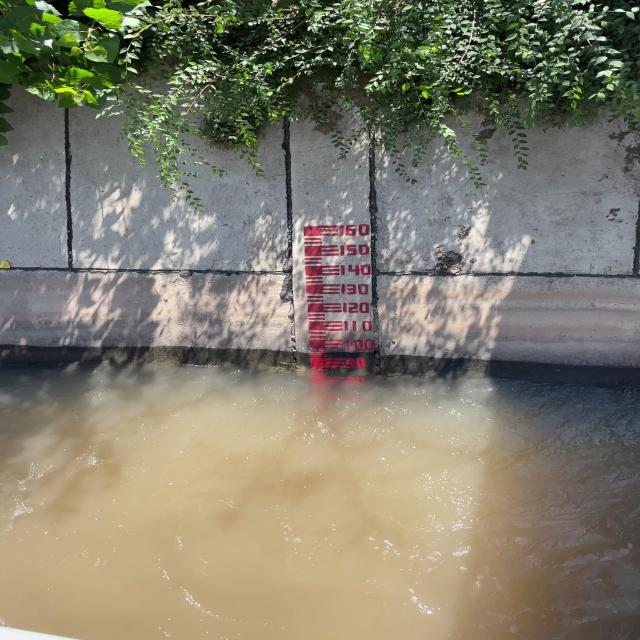ruler: (300, 220, 383, 377)
value: (336, 224, 376, 239), (338, 243, 374, 259), (337, 282, 373, 297), (337, 264, 374, 278), (344, 339, 376, 354), (342, 318, 374, 333), (340, 302, 374, 316), (344, 357, 372, 370)
